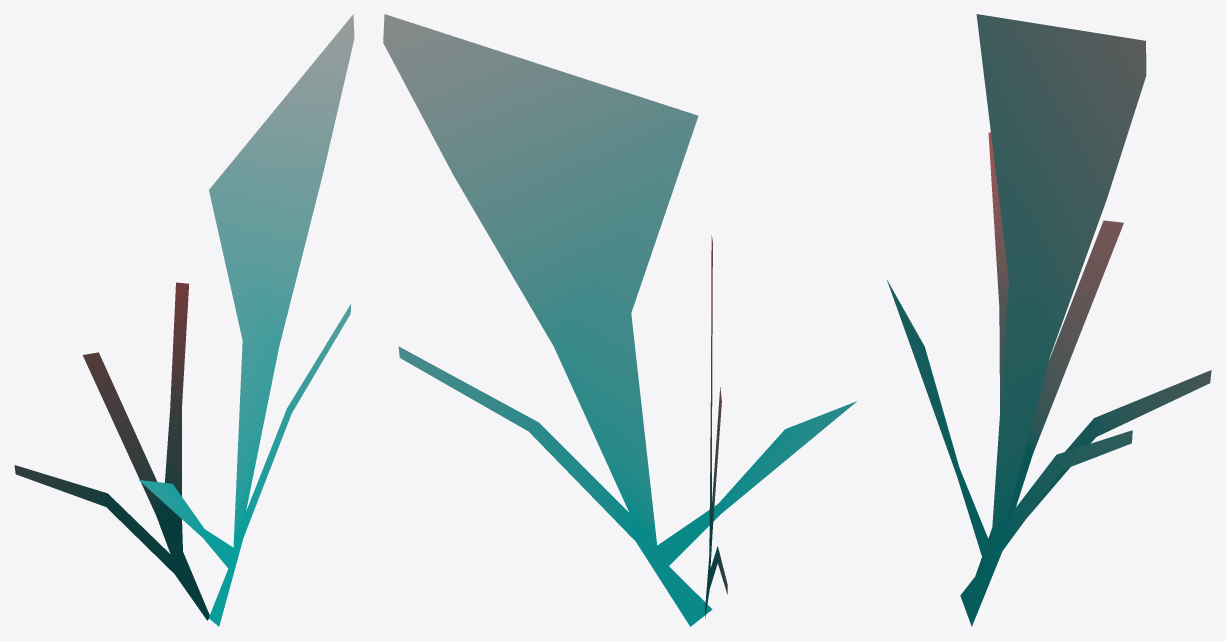
The model's file is Curbside_Weeds_ujzjfexja_Mid_ujzjfexja_VarC_LOD0.fbx.
3 views of the same model, side by side, from view 1: azimuth 30°, elevation 25°; view 2: azimuth 150°, elevation 25°; view 3: azimuth 270°, elevation 25° (orthographic). The views are drawn at different scales.
Parts seen in each view (by area): view 1: _oh16_VarC_LOD1; view 2: _oh16_VarC_LOD1; view 3: _oh16_VarC_LOD1.
Boxes of the visible parts, <box> form: _oh16_VarC_LOD1: <box>14,14,354,626</box>; _oh16_VarC_LOD1: <box>383,14,856,626</box>; _oh16_VarC_LOD1: <box>887,14,1211,626</box>.
Bounding box in the file's own units: 7.96 × 12.47 × 5.11.
